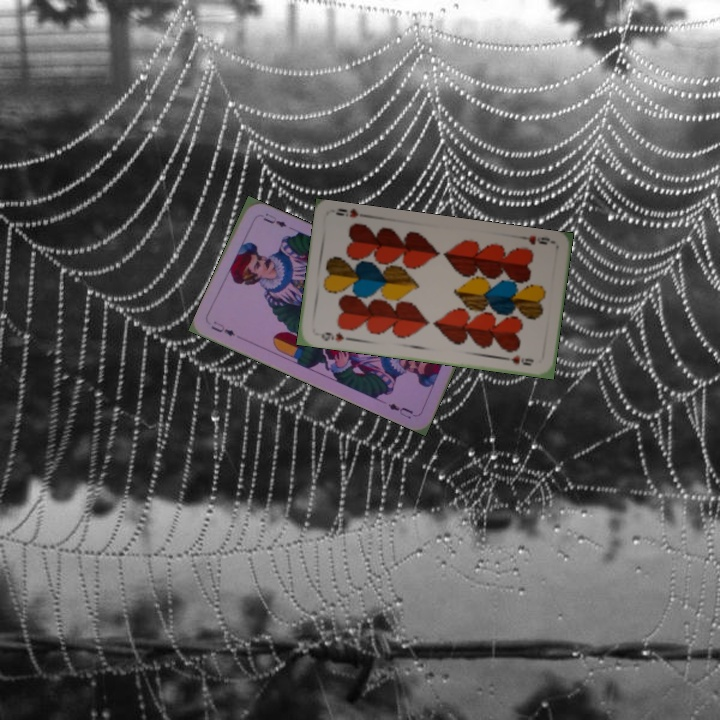EU: (207, 317, 238, 339)
H9: (515, 231, 556, 247), (317, 327, 346, 345)
